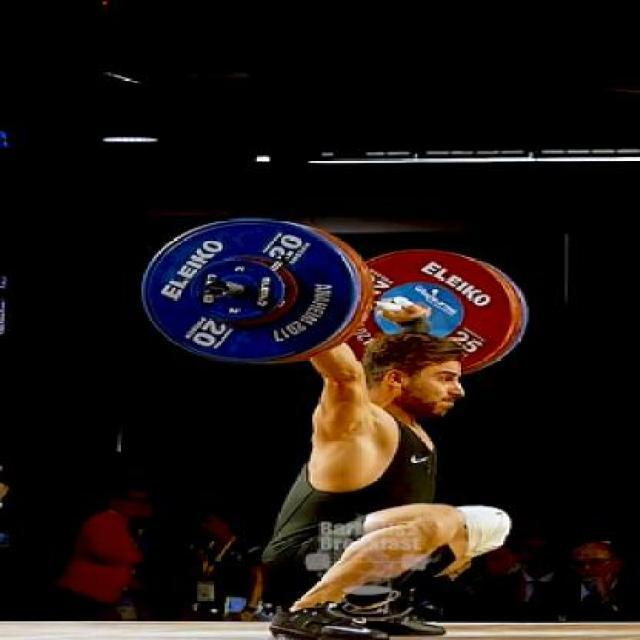barbell: (132, 208, 390, 374)
